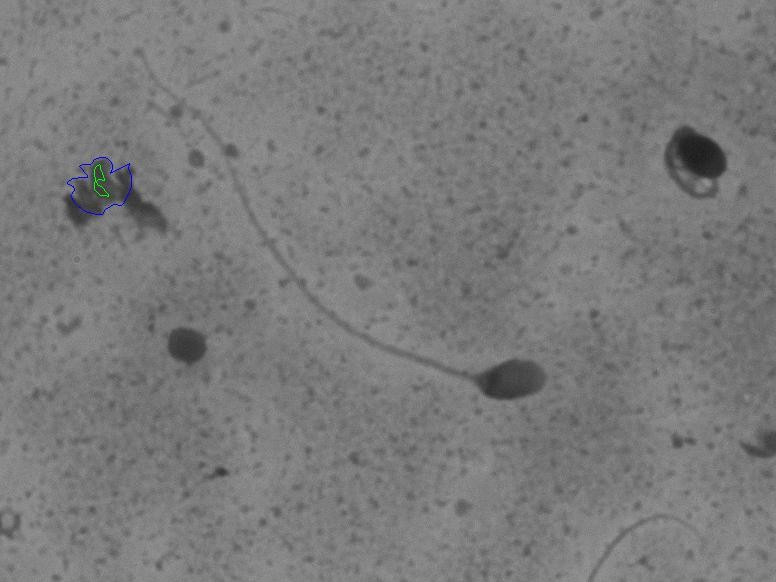Abnormal: (202, 110, 571, 430), (625, 89, 758, 226)
